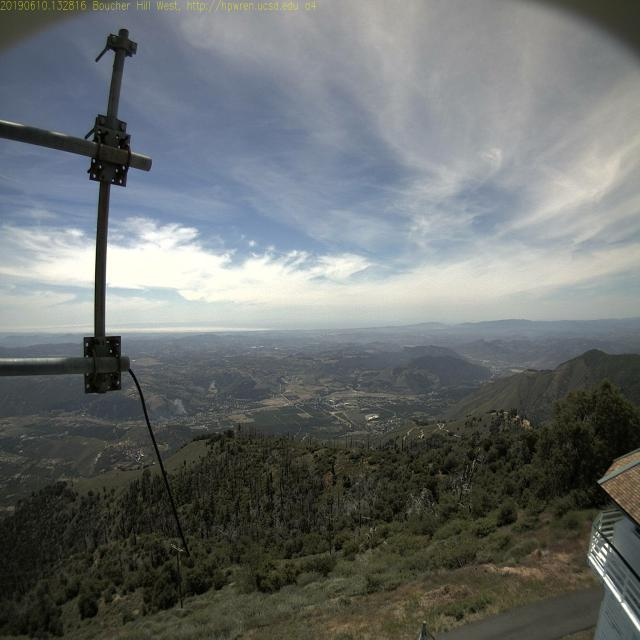smoke: (172, 396, 194, 424), (168, 396, 189, 418)
